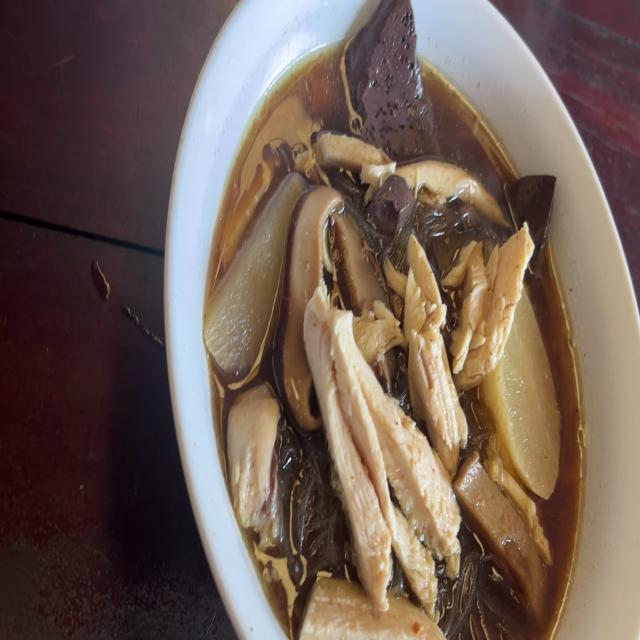boiled_chicken_blood_jelly: (347, 0, 437, 161), (522, 162, 555, 262), (376, 177, 409, 231)
chicken_shredded: (318, 315, 449, 589), (403, 241, 461, 456), (460, 230, 525, 376), (305, 573, 437, 640), (226, 388, 276, 526), (405, 153, 502, 202), (322, 135, 381, 178)
daikon_radish: (206, 180, 298, 373), (502, 316, 564, 500)
noodle: (212, 38, 576, 640)
